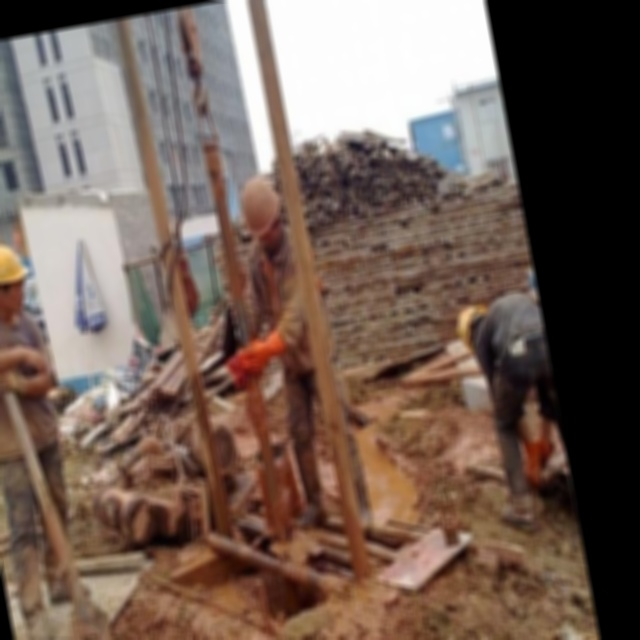Con_Casco: (0, 241, 33, 316), (453, 301, 492, 361)
